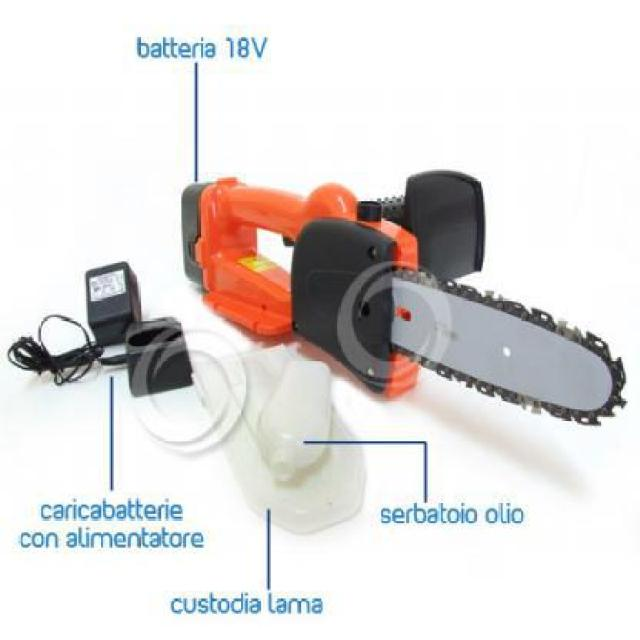Chainsaw: (178, 169, 630, 428)
